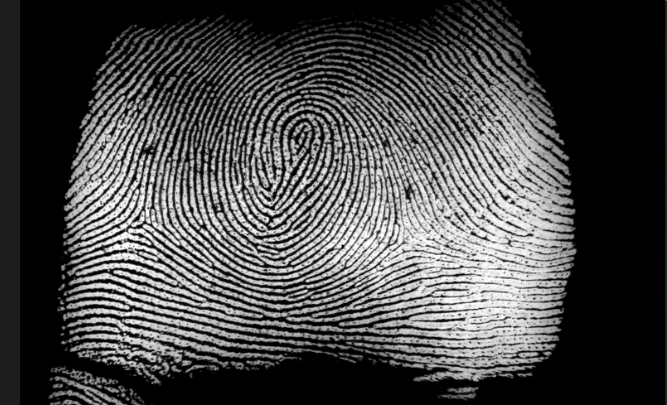nucelo: (284, 117, 320, 163)
verticilo: (121, 206, 158, 234), (387, 224, 417, 251)
